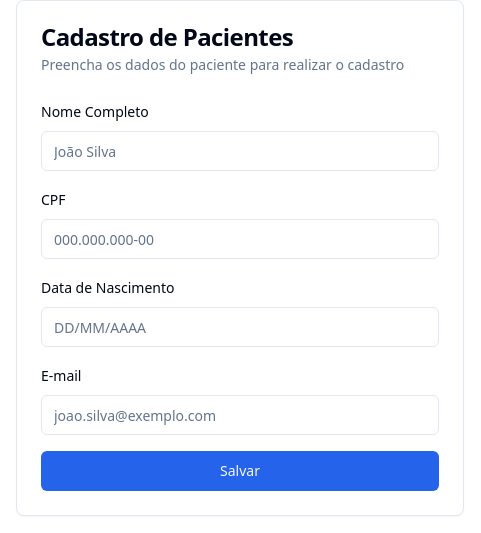
Test: PatientForm › deve aplicar máscara na data
The width and height of the screenshot is (481, 533).
In the field labelled "Data de Nascimento": (240, 327) [41, 307, 439, 347], type "01012000"
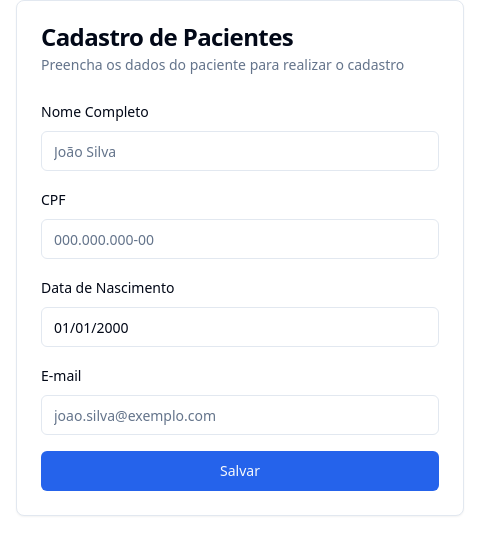
Check: the field labelled "Data de Nascimento" holds "01/01/2000", box [41, 307, 439, 347]
